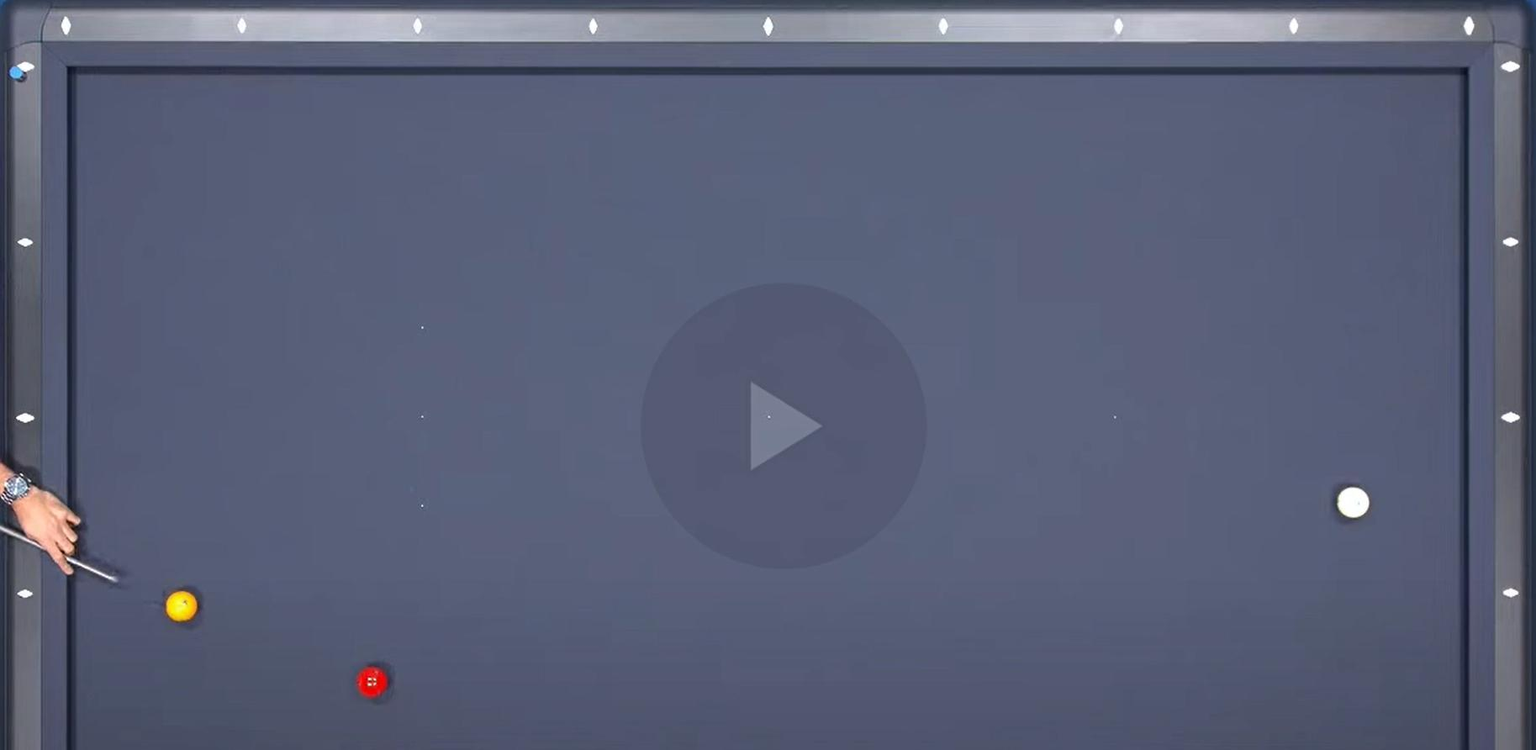red ball: (354, 664, 396, 703)
white ball: (1330, 481, 1373, 525)
yellow ball: (162, 587, 203, 626)
